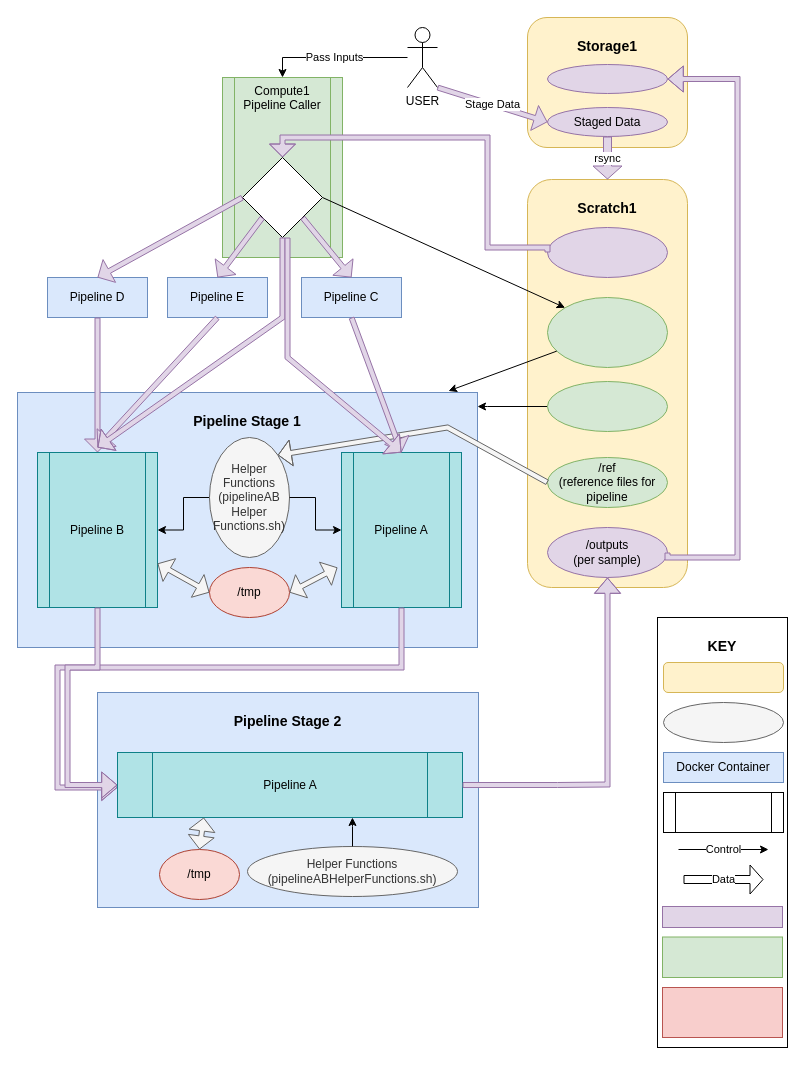
Some shapes in this 805 by 1065 pixel diagram are drawn without their labels. Here are the shapes that lost their labels. From the top down, the box of each, then its label:
(546, 64, 668, 94): Pipeline Outputs
(242, 156, 322, 238): Pipeline Decision
(546, 226, 668, 278): /inputs (raw sequence files)
(546, 296, 668, 368): Sample Environment ($FULLSMID.env)
(546, 380, 668, 432): Base Environment (/baseEnvs)
(662, 662, 784, 692): Storage Location
(662, 702, 784, 742): Resource File or Directory
(662, 792, 784, 832): Executable Script
(662, 906, 782, 928): Sequence Data
(662, 936, 782, 978): Modifiable w/o Changing Code
(662, 986, 782, 1038): Automatically Generated and Deleted
